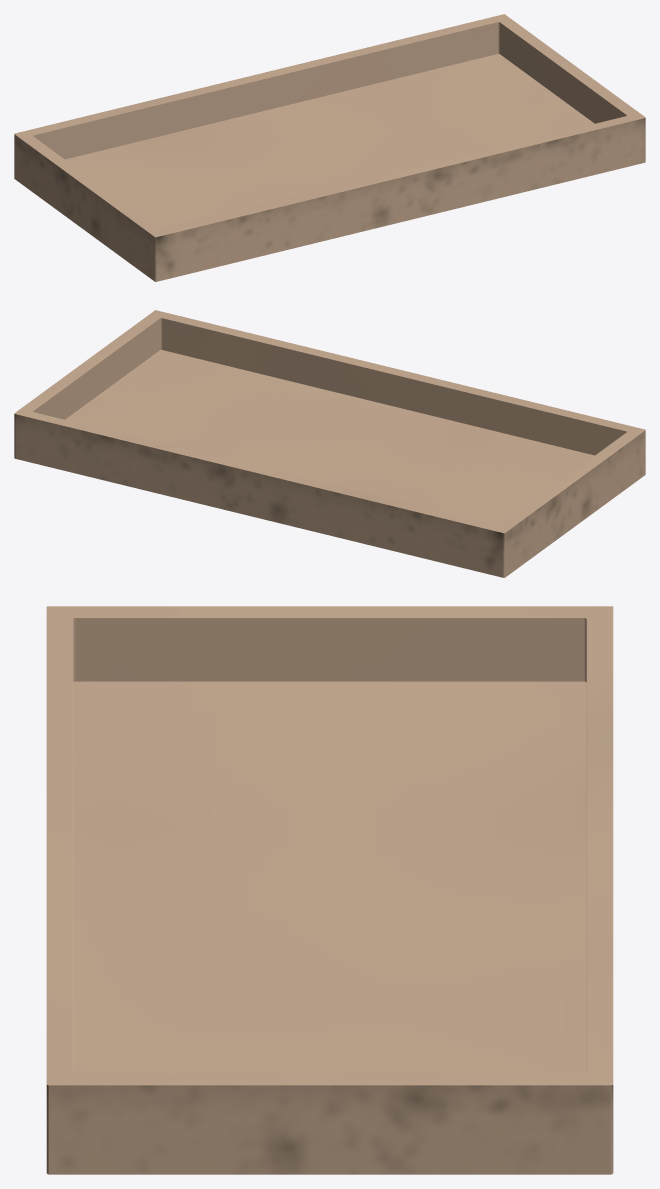
Rendered from Roof.fbx.
3 renders of one model, top to bottom at view 1: azimuth 30°, elevation 25°; view 2: azimuth 150°, elevation 25°; view 3: azimuth 270°, elevation 25°, orthographic. The views are drawn at different scales.
Parts seen in each view (by area): view 1: roof; view 2: roof; view 3: roof.
Boxes of the visible parts, <box> form: roof: <box>14,14,645,281</box>; roof: <box>14,310,645,577</box>; roof: <box>46,606,613,1174</box>.
Bounding box in the file's own units: 800 × 69.73 × 400.
Materials: 1 (1 with a texture image).
